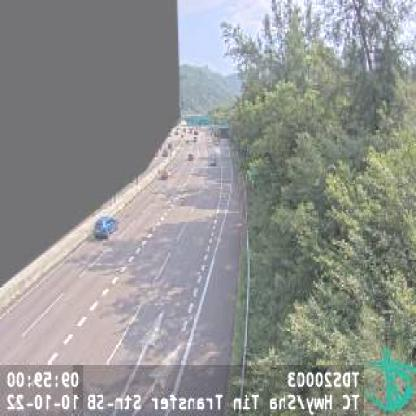Car: (92, 217, 118, 239)
